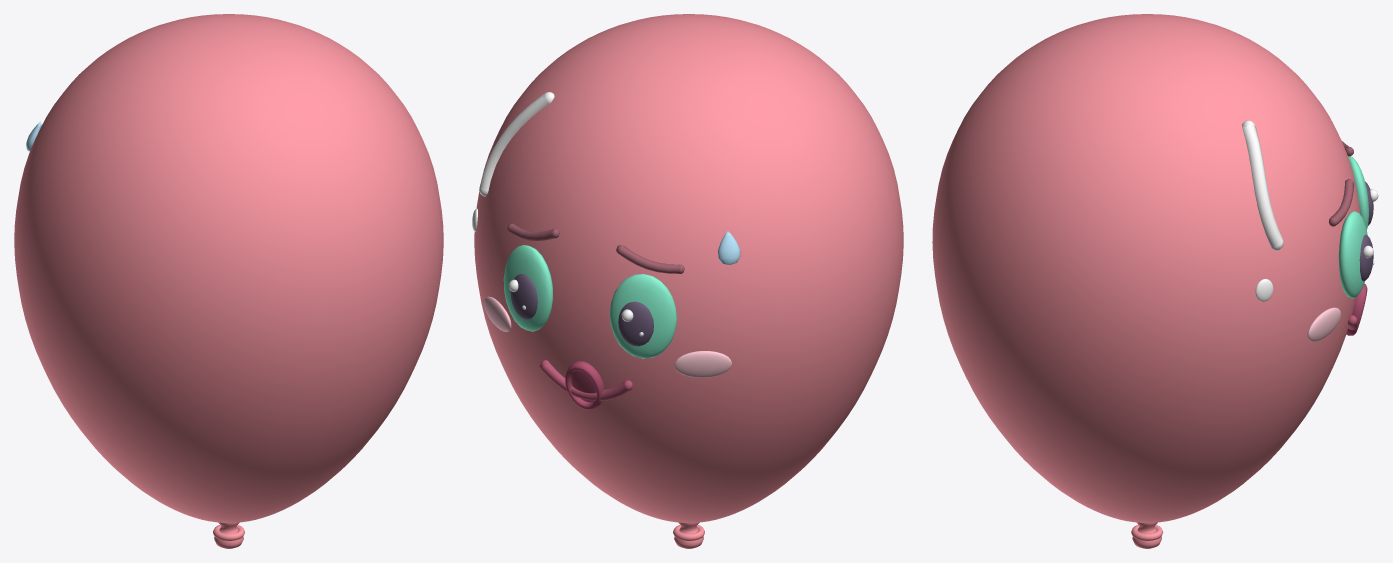
Rendered from PumpBalloon.glb.
The picture shows the model from 3 angles, left to right: view 1: azimuth 30°, elevation 25°; view 2: azimuth 150°, elevation 25°; view 3: azimuth 270°, elevation 25°; orthographic projection.
Parts seen in each view (by area): view 1: Skin; view 2: Skin, Eyes, Pupils, Blush, Gleam, Ooh, Brows, Smile, Sweat; view 3: Skin, Eyes, Gleam, Blush, Pupils, Brows.
Part boxes in pixels (<box>): Skin: <box>14,14,443,548</box>; Skin: <box>474,14,903,548</box>; Eyes: <box>503,245,676,358</box>; Pupils: <box>510,274,653,346</box>; Blush: <box>484,296,732,377</box>; Gleam: <box>472,92,554,231</box>; Ooh: <box>565,361,604,409</box>; Brows: <box>507,223,684,273</box>; Smile: <box>540,360,632,400</box>; Sweat: <box>718,230,740,265</box>; Skin: <box>932,14,1360,548</box>; Eyes: <box>1338,156,1368,298</box>; Gleam: <box>1242,120,1283,301</box>; Blush: <box>1307,307,1340,341</box>; Pupils: <box>1359,181,1373,281</box>; Brows: <box>1329,141,1353,226</box>.
Size of the model in its own units: 11.45 by 15 by 11.89.
